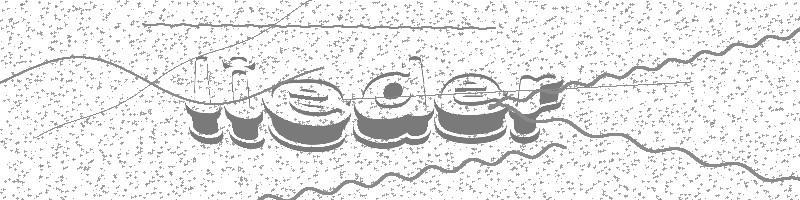d: (352, 53, 431, 151)
e: (262, 65, 349, 155), (434, 69, 508, 144)
l: (182, 52, 224, 144)
o: (224, 59, 261, 148)
r: (511, 69, 567, 146)
